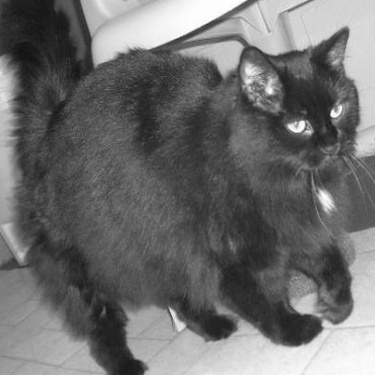cat: (1, 6, 364, 374)
